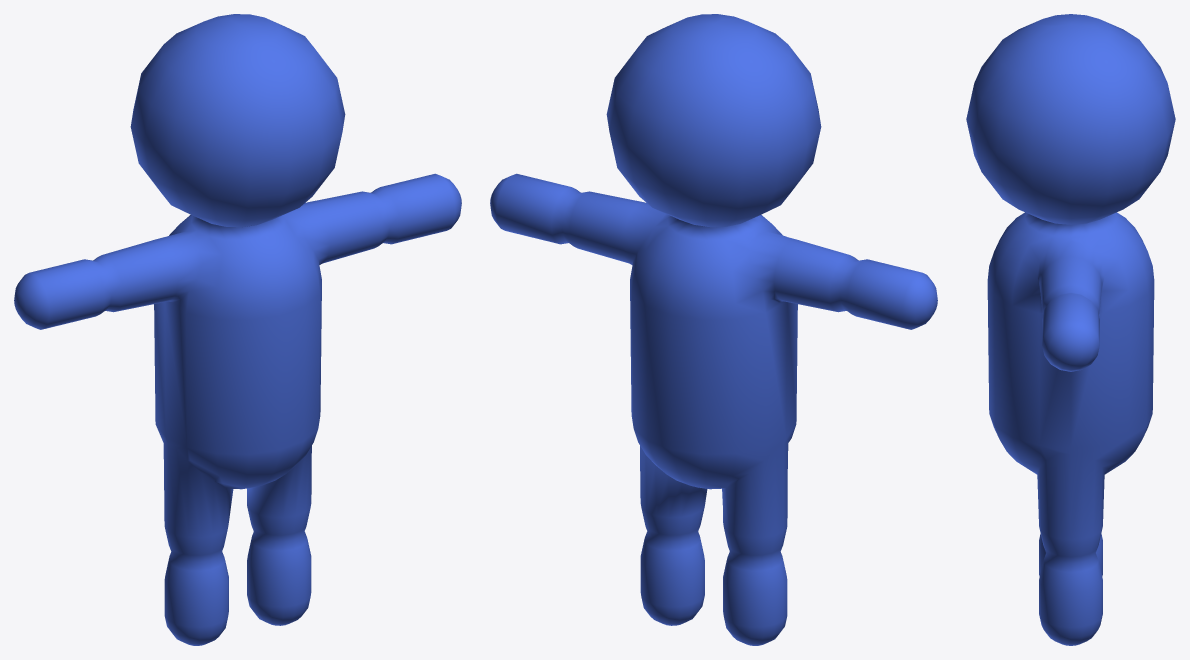
The model's file is stickman-t-pose.fbx.
3 views of the same model, side by side, from view 1: azimuth 30°, elevation 25°; view 2: azimuth 150°, elevation 25°; view 3: azimuth 270°, elevation 25° (orthographic).
Parts seen in each view (by area): view 1: stick man vers 3; view 2: stick man vers 3; view 3: stick man vers 3.
Boxes of the visible parts, x1,y1,x2,y2 form: stick man vers 3: [14, 14, 461, 645]; stick man vers 3: [490, 14, 937, 645]; stick man vers 3: [966, 14, 1175, 645].
Bounding box in the file's own units: 1.8 × 2.38 × 0.7534.
